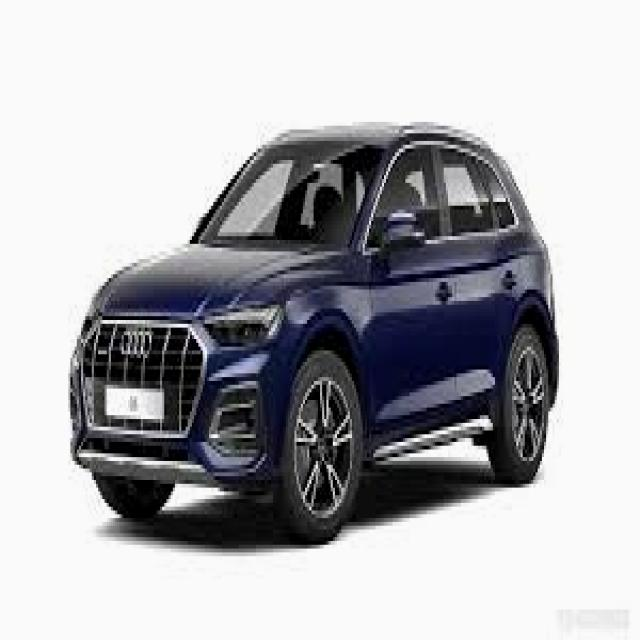SUV: (63, 114, 551, 541)
